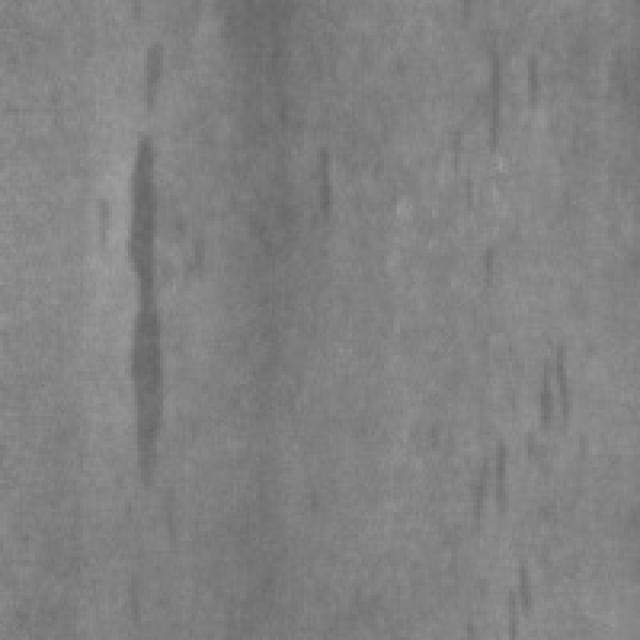inclusion: (86, 105, 176, 492), (464, 329, 573, 522), (464, 36, 541, 150), (292, 118, 342, 240), (477, 556, 550, 634)
